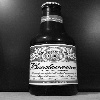beer: (30, 1, 83, 97)
